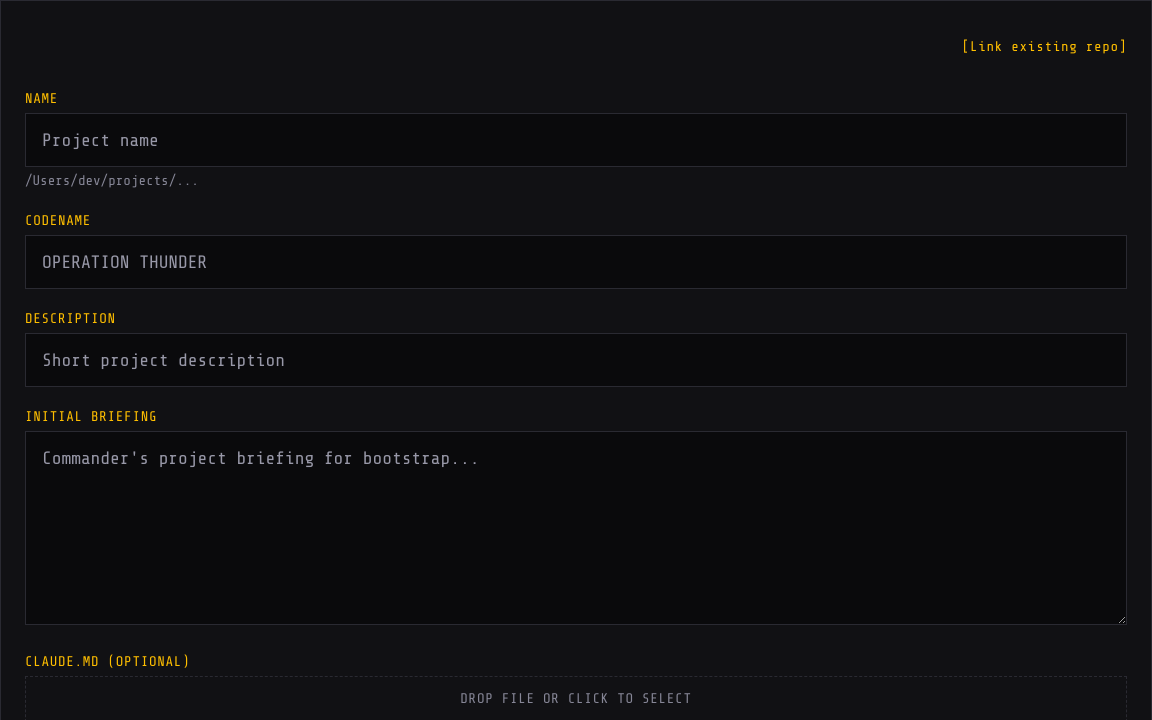
Scenario: CreateBattlefield › switches to link mode and shows repo path field
The width and height of the screenshot is (1152, 720).
Click the button "[Link existing repo]". click: (1044, 47)
box: [962,25,1127,69]
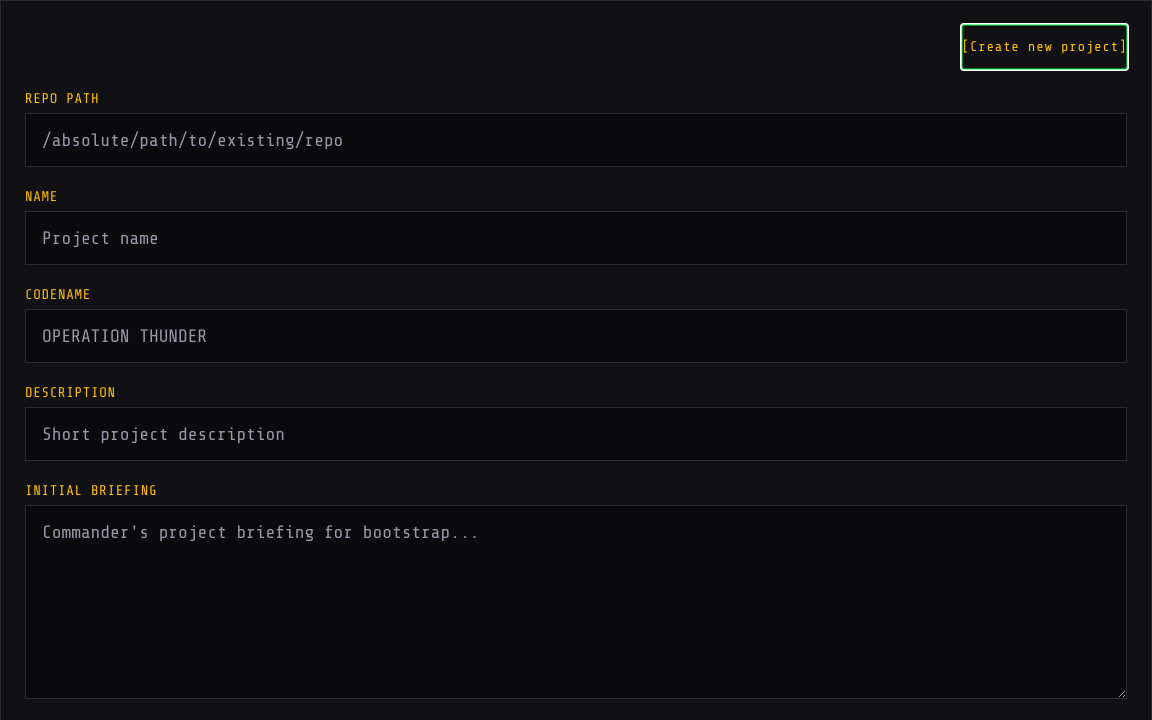
Check: the text "REPO PATH" is shown, box [25,91,99,106]
Check: the field with placeholder "/absolute/path/to/existing/repo" is shown, box [25,113,1127,167]
